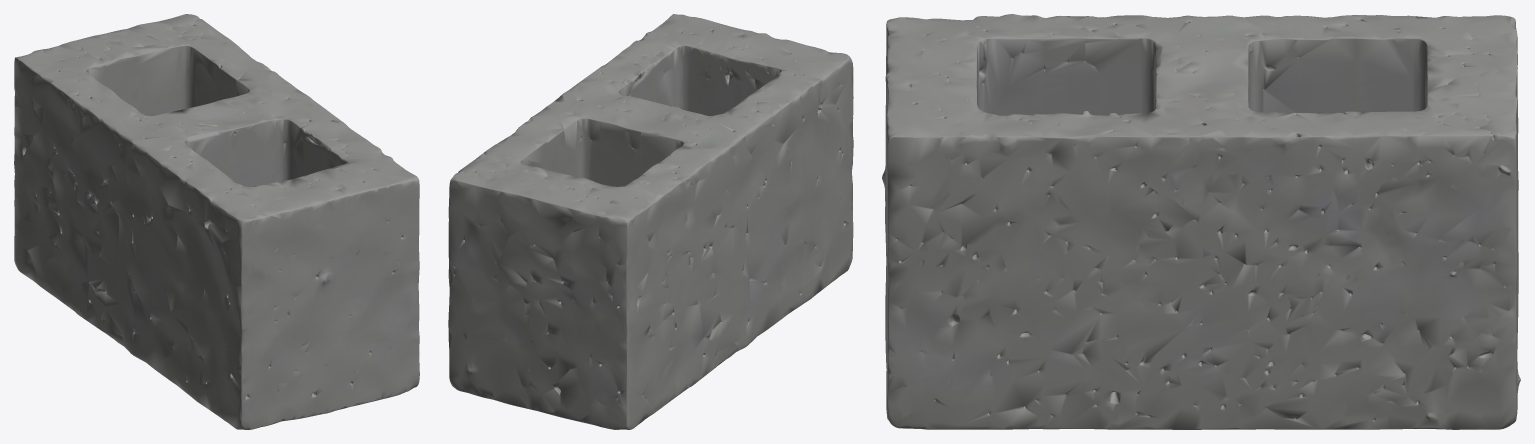
Rendered from bloque.glb.
3 renders of one model, left to right at view 1: azimuth 30°, elevation 25°; view 2: azimuth 150°, elevation 25°; view 3: azimuth 270°, elevation 25°, orthographic. The views are drawn at different scales.
Parts seen in each view (by area): view 1: tripo_node_b6df814e-31b4-4180-a988-a4d4d2a74e38; view 2: tripo_node_b6df814e-31b4-4180-a988-a4d4d2a74e38; view 3: tripo_node_b6df814e-31b4-4180-a988-a4d4d2a74e38.
Part boxes in pixels (<box>): tripo_node_b6df814e-31b4-4180-a988-a4d4d2a74e38: <box>14,14,419,429</box>; tripo_node_b6df814e-31b4-4180-a988-a4d4d2a74e38: <box>448,14,853,429</box>; tripo_node_b6df814e-31b4-4180-a988-a4d4d2a74e38: <box>882,14,1520,429</box>.
Bounding box in the file's own units: 0.4565 × 0.5161 × 0.9999.
1 material, 1 textured.
